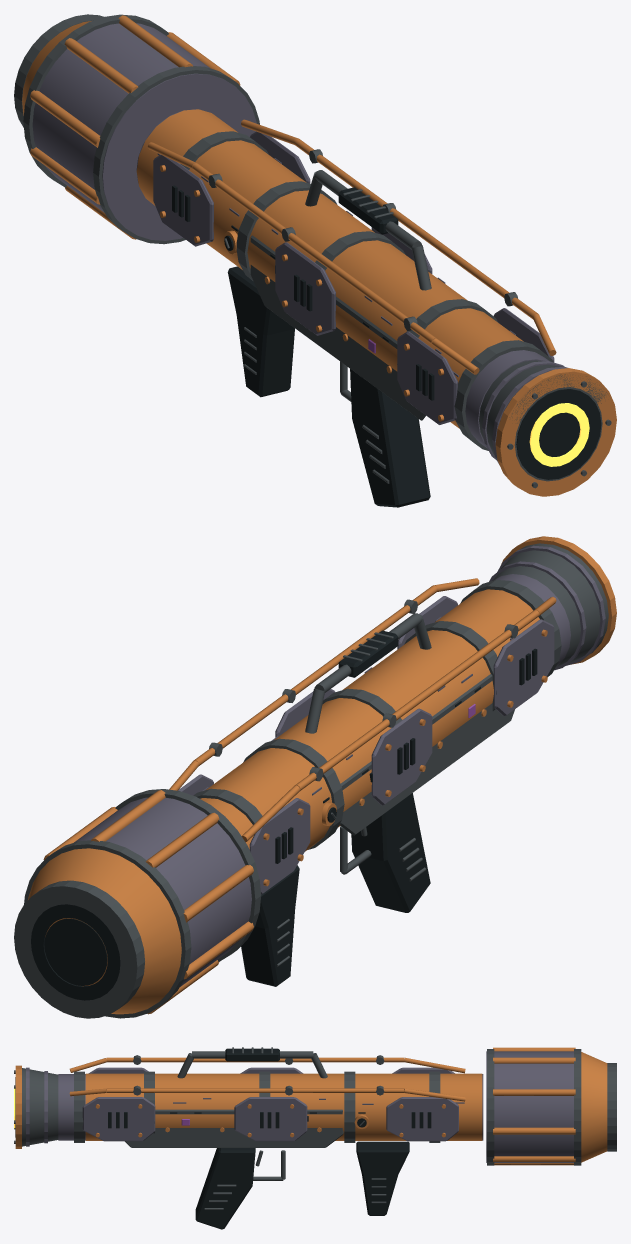
Rendered from heavy_3.glb.
The picture shows the model from 3 angles, top to bottom: view 1: azimuth 30°, elevation 25°; view 2: azimuth 150°, elevation 25°; view 3: azimuth 270°, elevation 25°; orthographic projection. The views are drawn at different scales.
Visible parts, largest first — view 1: Weapon_heavy_v1; view 2: Weapon_heavy_v1; view 3: Weapon_heavy_v1.
Boxes of the visible parts, x1,y1,x2,y2 form: Weapon_heavy_v1: (14, 14, 616, 507); Weapon_heavy_v1: (14, 536, 616, 1018); Weapon_heavy_v1: (14, 1047, 616, 1229).
Bounding box in the file's own units: 0.195 × 0.318 × 0.993.
